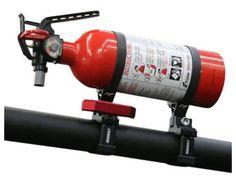Fire Extinguisher: (18, 10, 230, 112)
